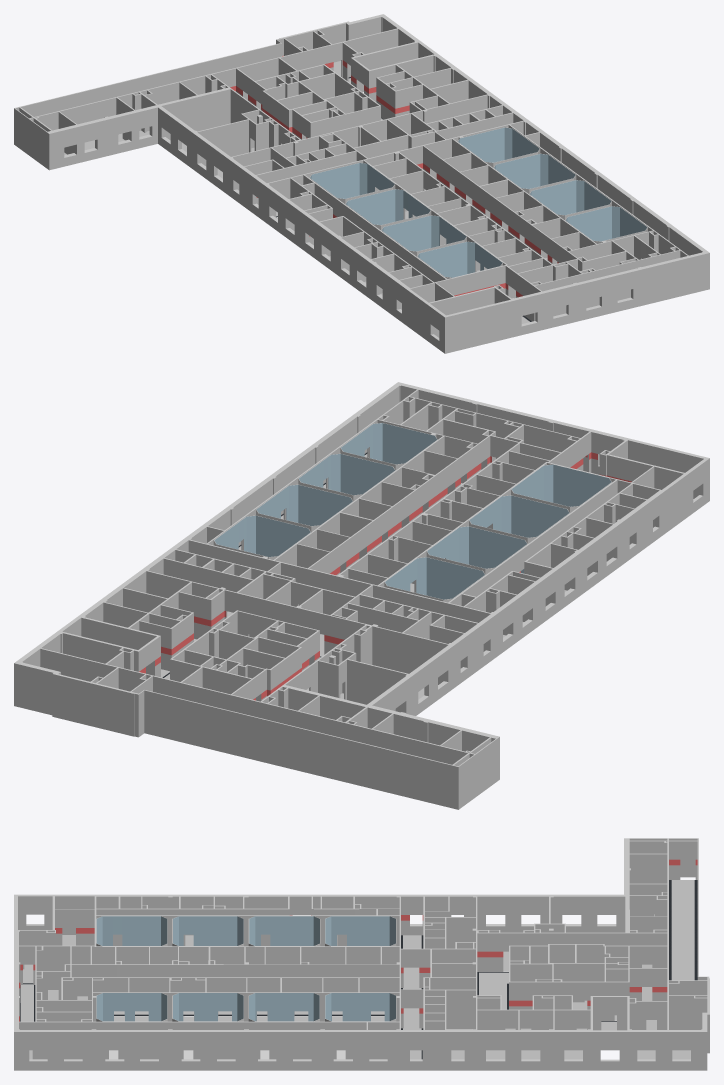
Rendered from operation.fbx.
3 views of the same model, one above another, from view 1: azimuth 30°, elevation 25°; view 2: azimuth 150°, elevation 25°; view 3: azimuth 270°, elevation 25° (orthographic). The views are drawn at different scales.
Visible parts, largest first — view 1: Plane; view 2: Plane; view 3: Plane.
Part boxes in pixels (x1,y1,x2,y2): Plane: (14,14,709,353); Plane: (14,382,709,809); Plane: (14,838,709,1070).
Size of the model in its own units: 4517 by 420 by 6857.
